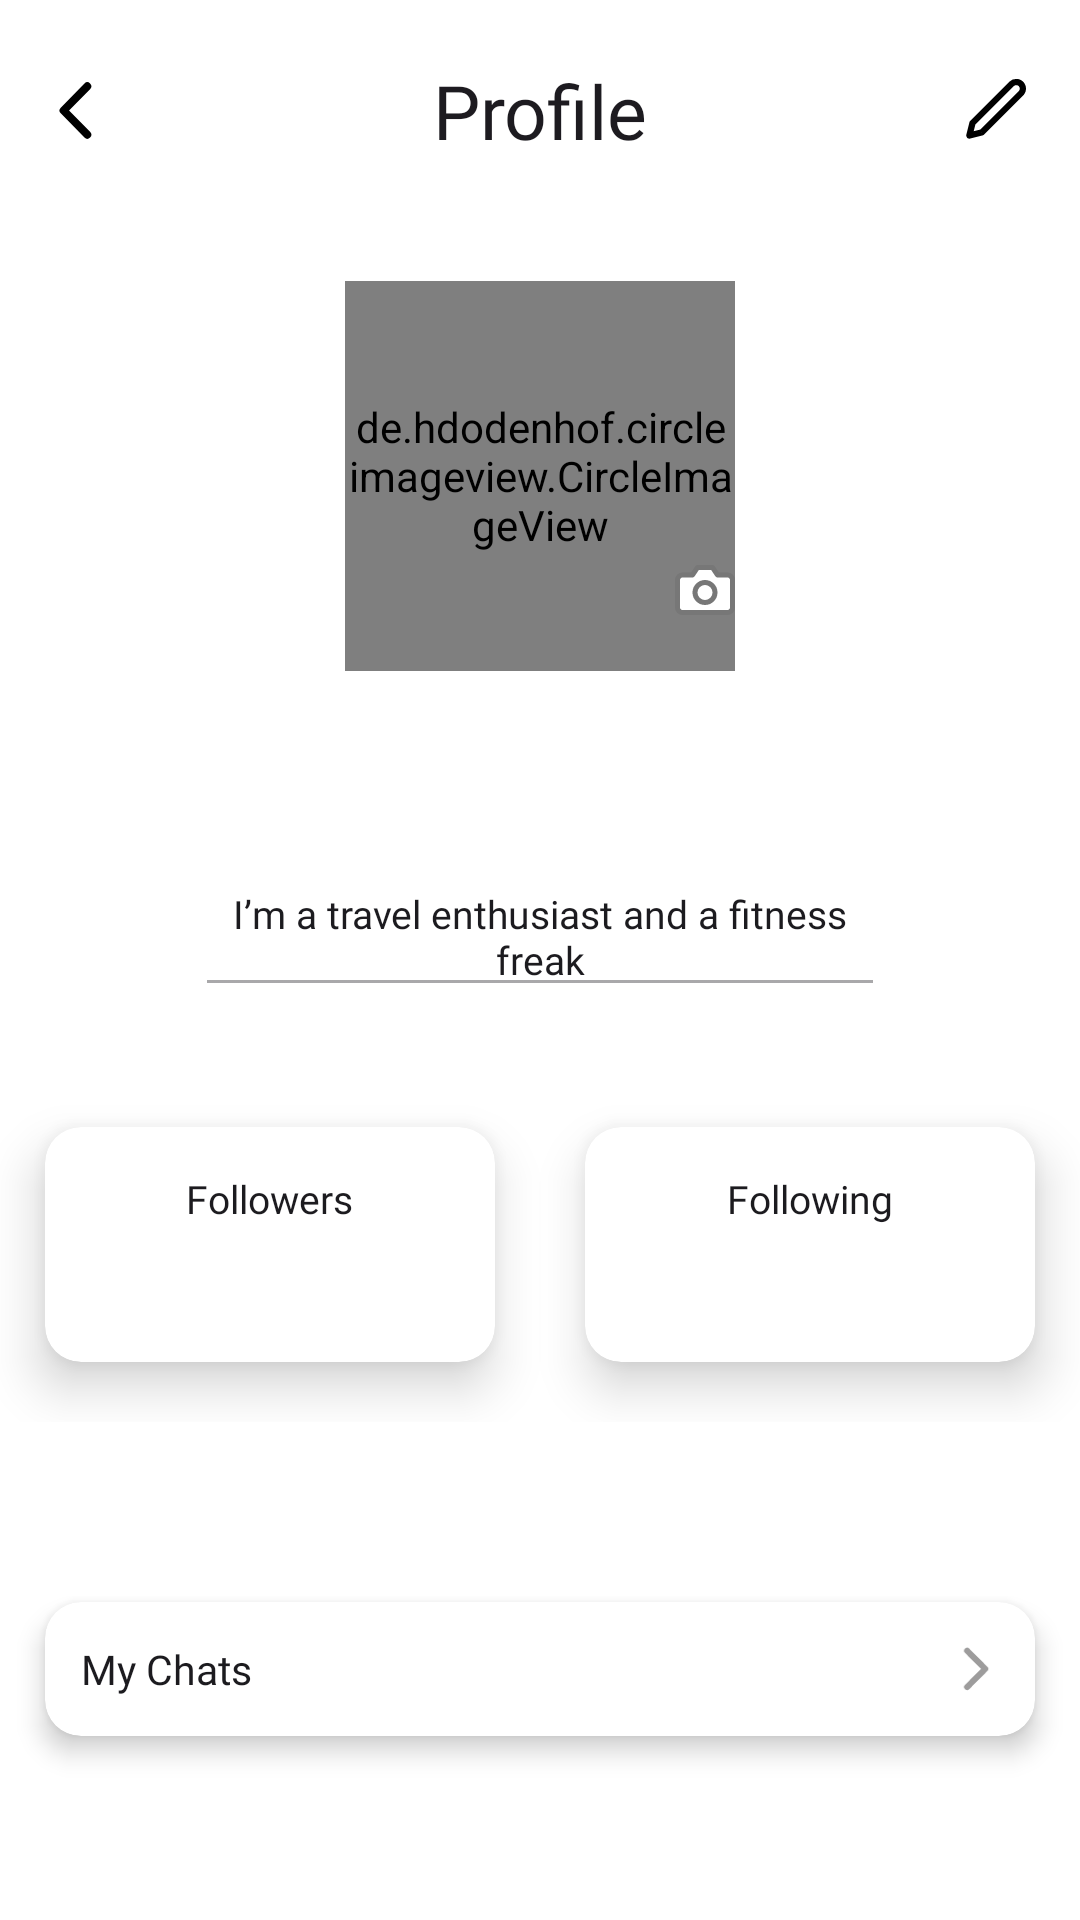

Screen size 1080w x 1920h. Icon name, then its center in pixels as (x,y):
camera: (705,590)
edit: (996,109)
